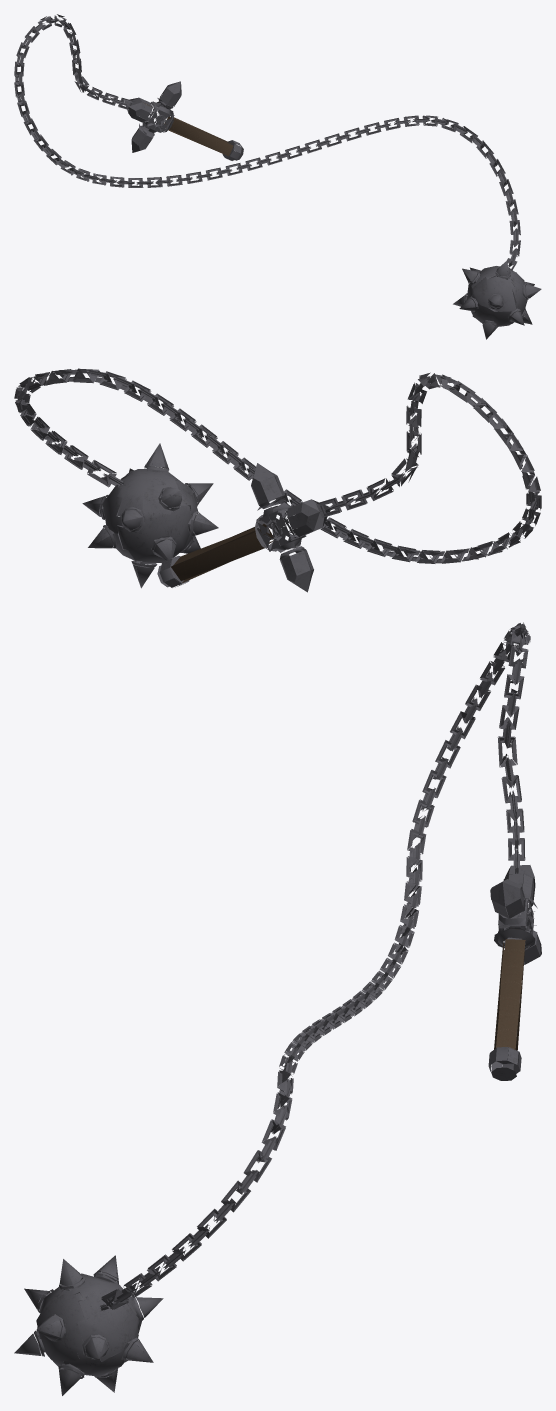
File: whip.glb
The picture shows the model from 3 angles, top to bottom: view 1: azimuth 30°, elevation 25°; view 2: azimuth 150°, elevation 25°; view 3: azimuth 270°, elevation 25°; orthographic projection. The views are drawn at different scales.
Parts seen in each view (by area): view 1: defaultMaterial.001, defaultMaterial, defaultMaterial.002; view 2: defaultMaterial.001, defaultMaterial, defaultMaterial.002; view 3: defaultMaterial.001, defaultMaterial, defaultMaterial.002.
Part boxes in pixels (box(x1,y1,x2,y2)): defaultMaterial.001: box(14, 14, 520, 270); defaultMaterial: box(453, 261, 541, 339); defaultMaterial.002: box(124, 81, 243, 160); defaultMaterial.001: box(14, 368, 541, 563); defaultMaterial: box(82, 443, 218, 588); defaultMaterial.002: box(157, 463, 329, 592); defaultMaterial.001: box(100, 622, 530, 1310); defaultMaterial: box(14, 1255, 163, 1395); defaultMaterial.002: box(488, 865, 541, 1080).
Size of the model in its own units: 1.99 by 1.41 by 1.33.
Materials: 3 (3 with a texture image).
